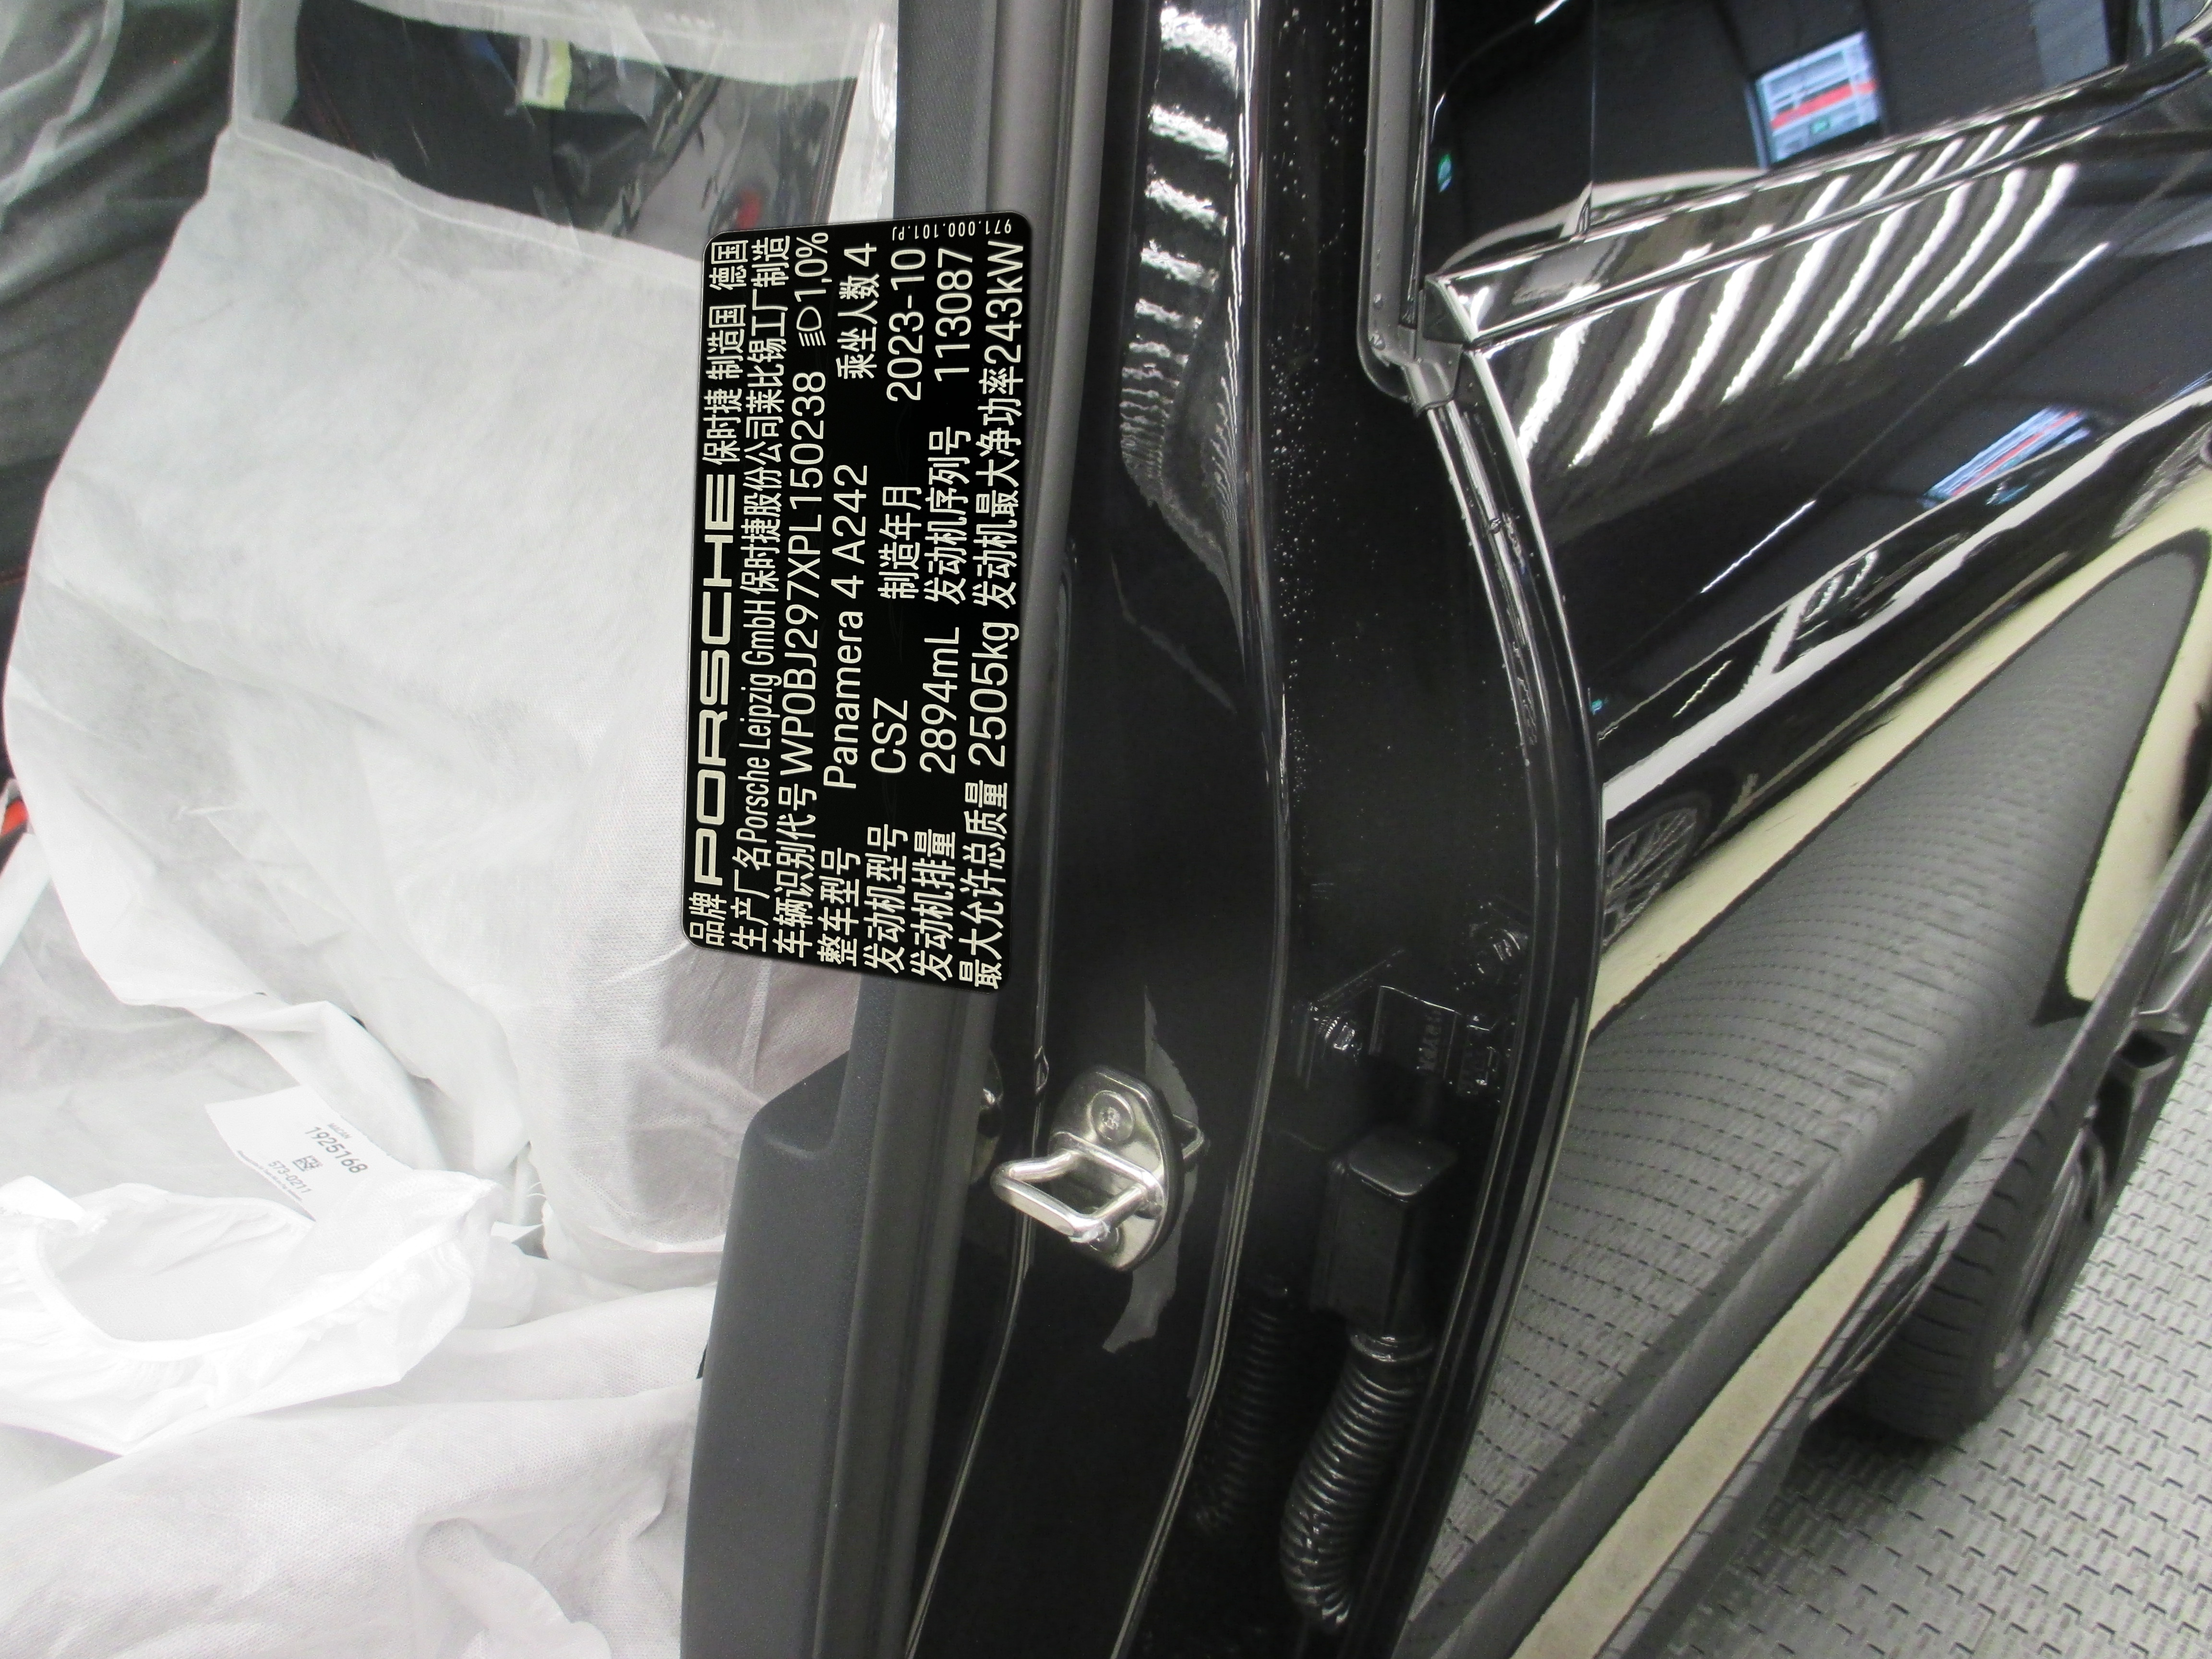Typlabel-China: (681, 211, 1031, 993)
